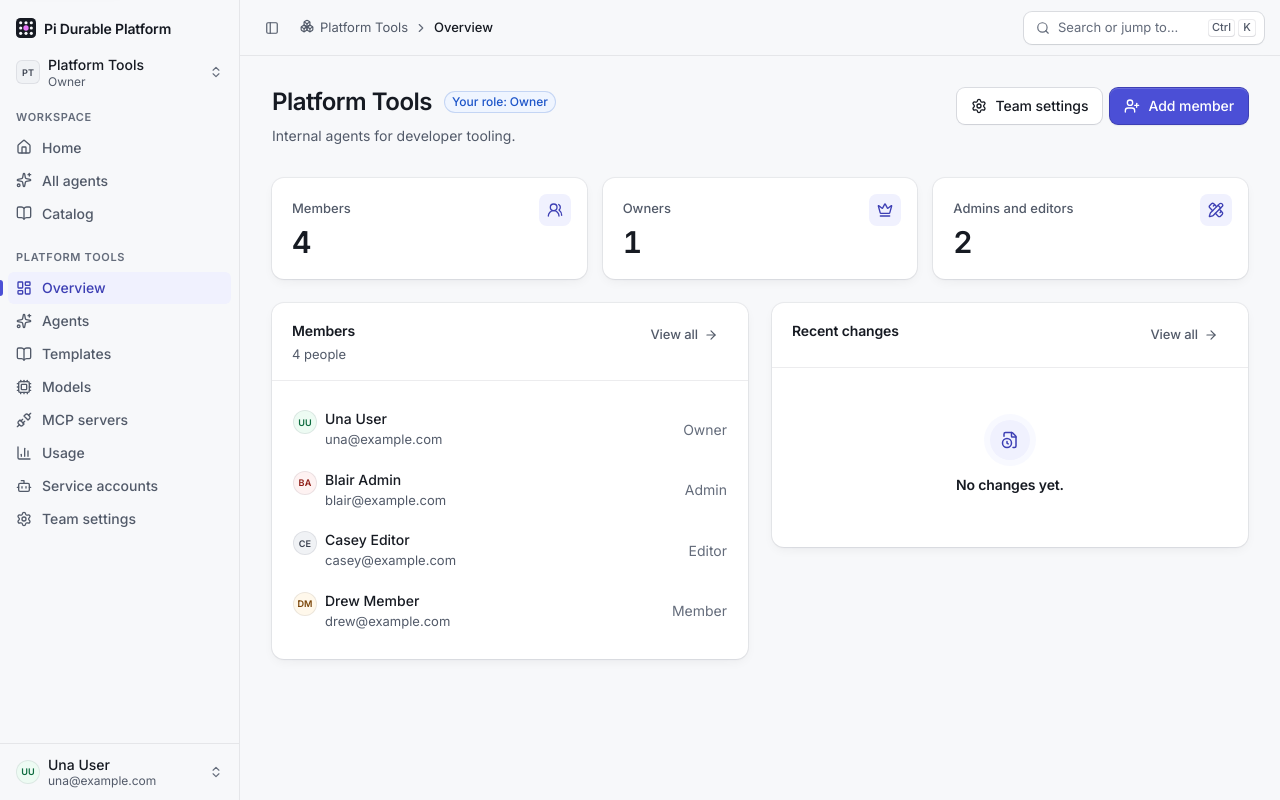
command palette › runs a quick action: Add member opens the dialog in Team settings
Expected: the heading "Platform Tools" is shown, [272, 88, 432, 117]
Click the button "Search or jump to… Ctrl K": (1144, 28) [1024, 12, 1264, 44]
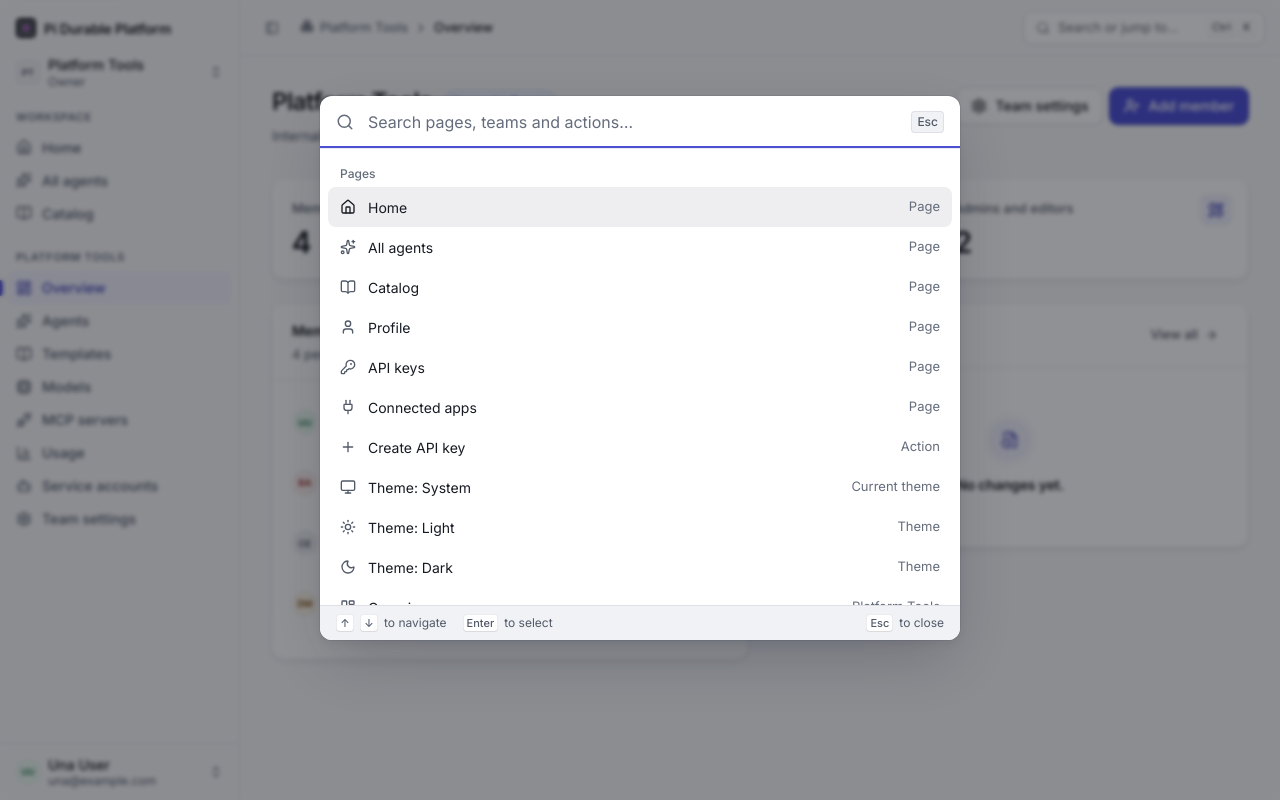
In the dropdown named "Command palette": (633, 122) [366, 96, 899, 148], type "add member"
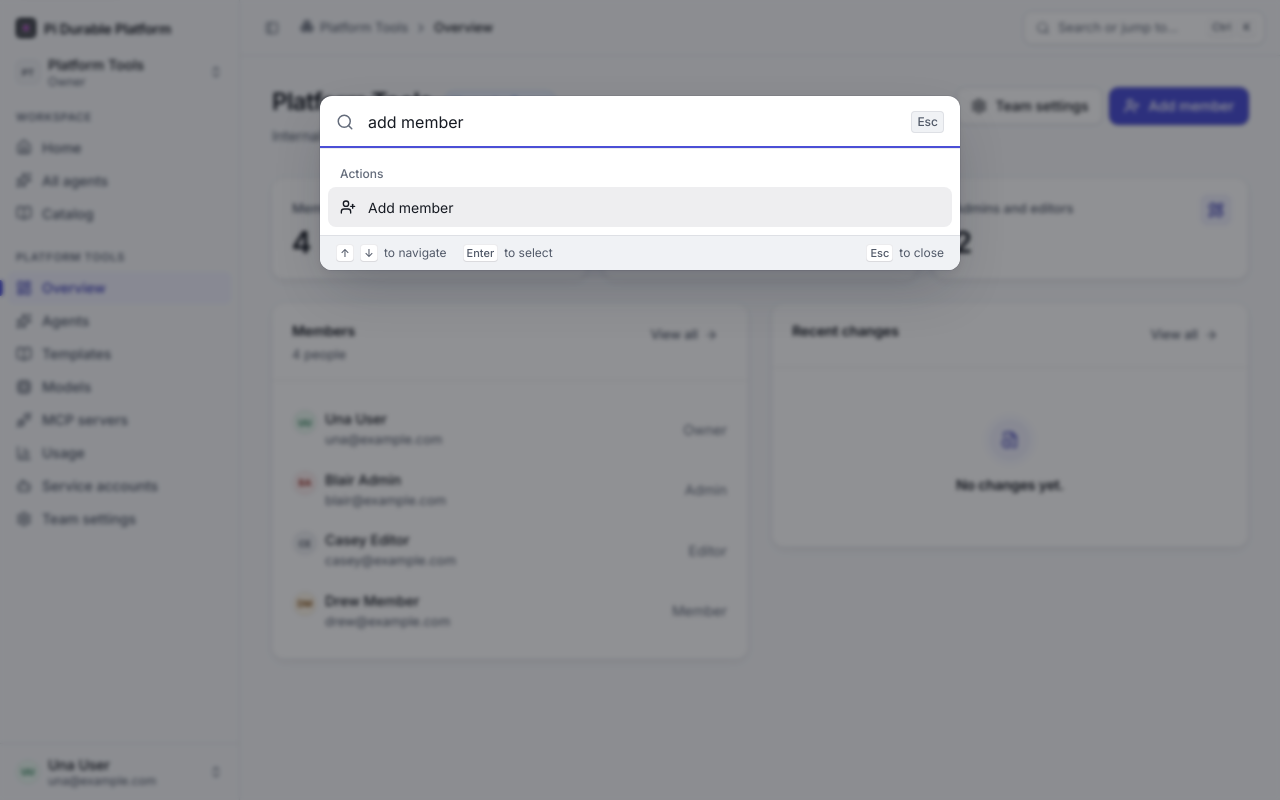
Press Enter
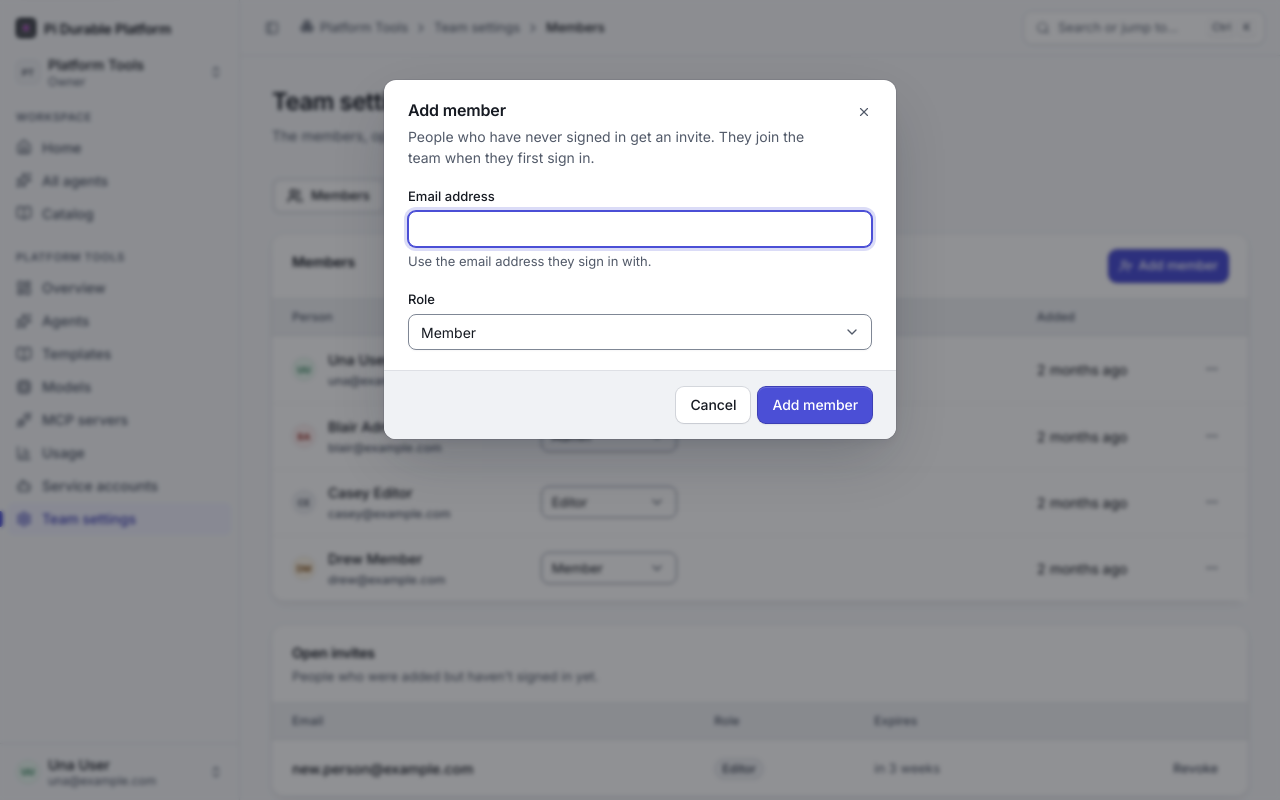
Expected: the dialog "Add member" is shown, [384, 80, 896, 439]
